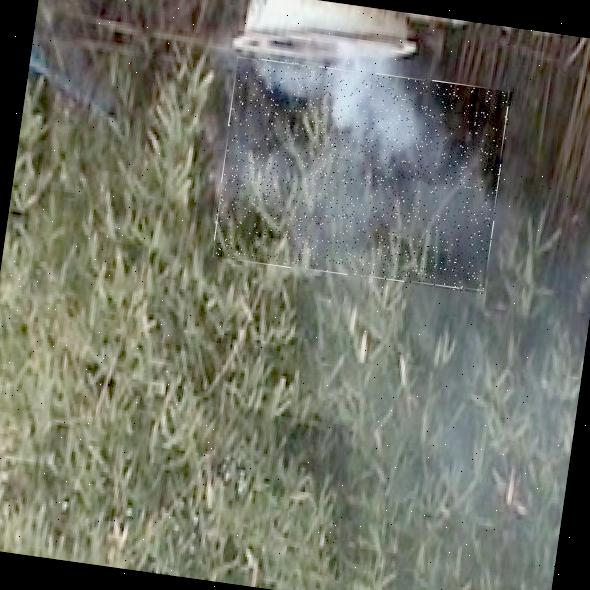smoke: (211, 54, 512, 294)
